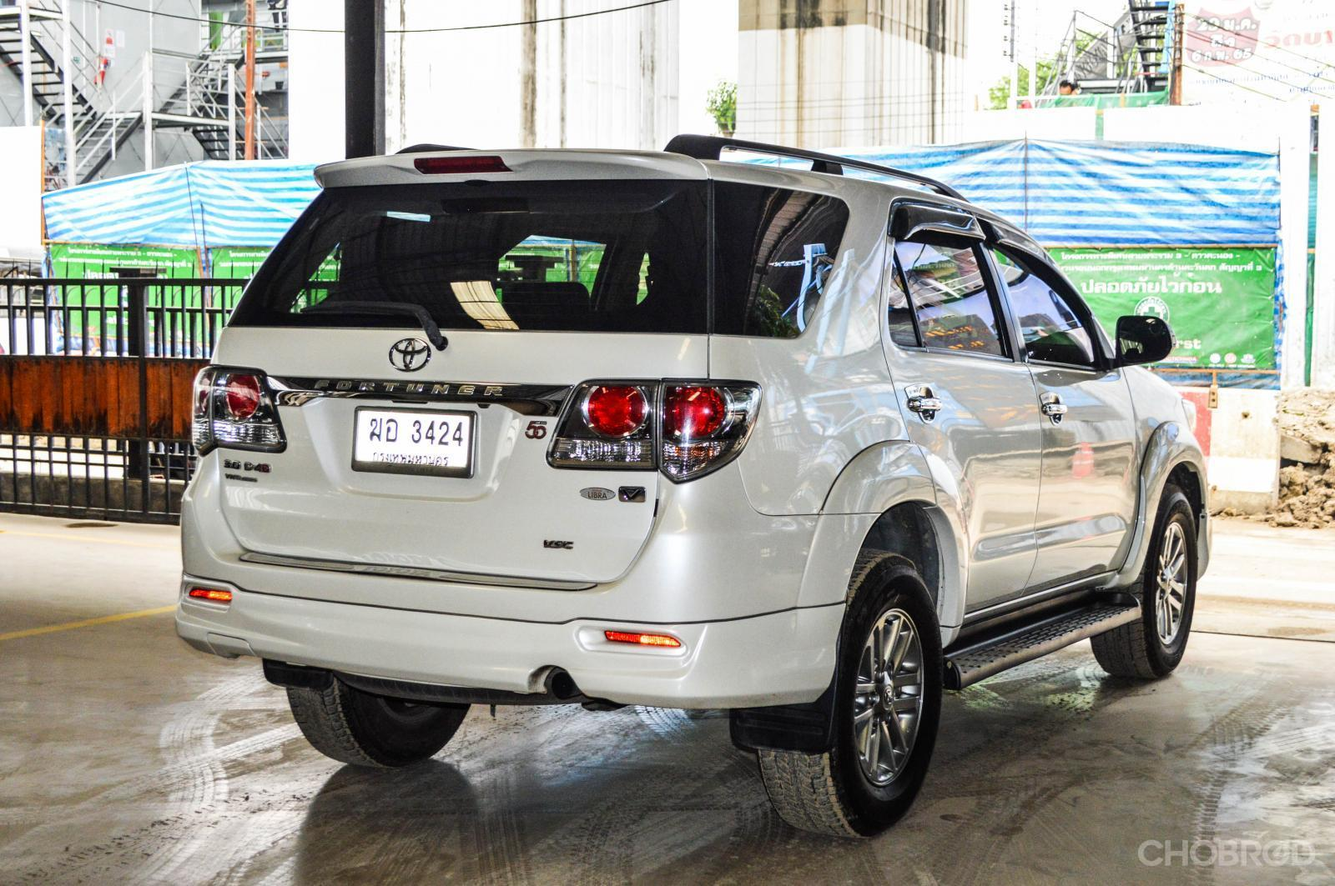license-plate: (350, 399, 477, 476)
